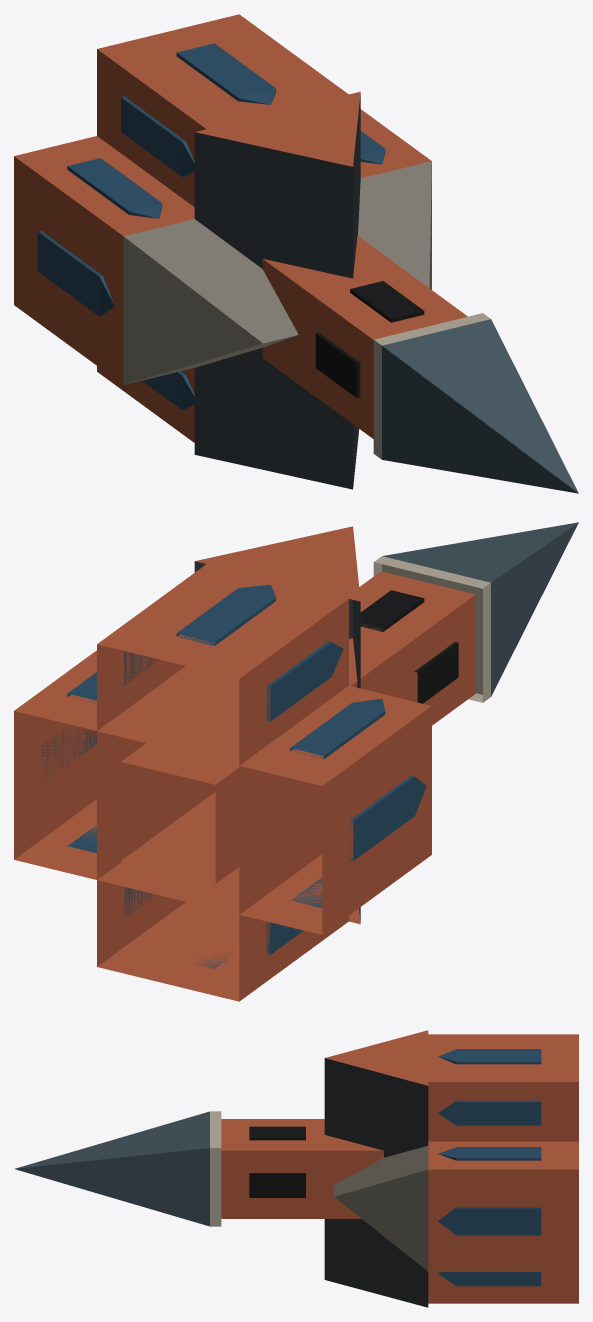
The model's file is construction_2.glb.
The picture shows the model from 3 angles, top to bottom: view 1: azimuth 30°, elevation 25°; view 2: azimuth 150°, elevation 25°; view 3: azimuth 270°, elevation 25°; orthographic projection. The views are drawn at different scales.
Parts seen in each view (by area): view 1: c2_church; view 2: c2_church; view 3: c2_church.
Part boxes in pixels (left/top/right/bottom): c2_church: left=14, top=14, right=578, bottom=493; c2_church: left=14, top=522, right=578, bottom=1001; c2_church: left=15, top=1030, right=578, bottom=1307.
Size of the model in its own units: 13.3 by 13.3 by 30.
